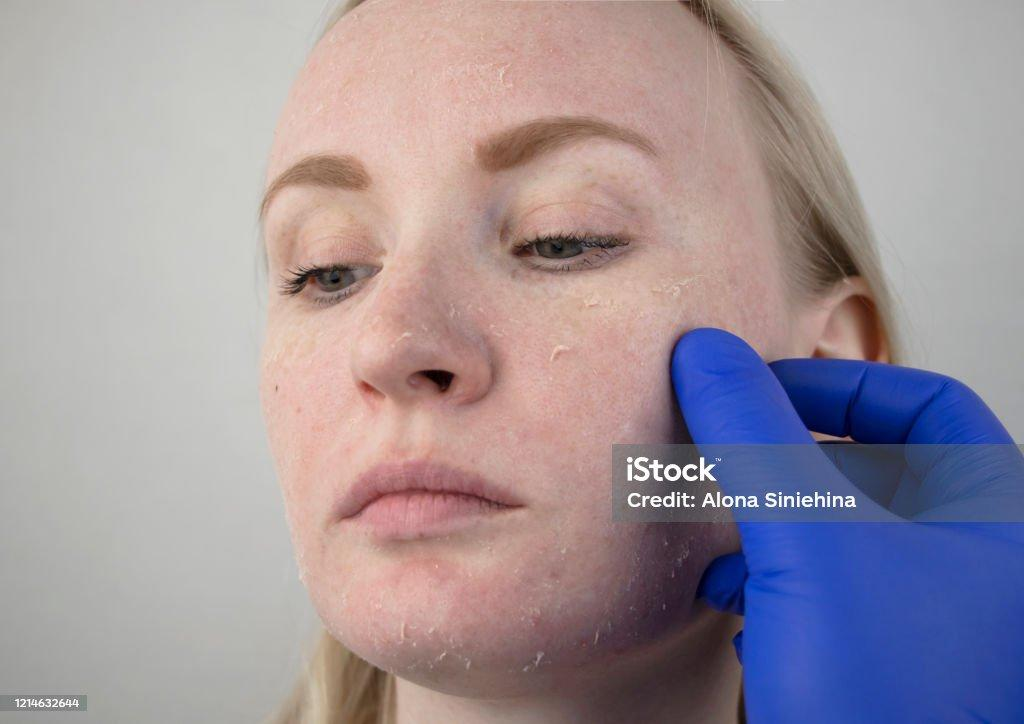Dry-Skin: (388, 278, 740, 377), (346, 563, 566, 699), (568, 523, 761, 672), (396, 8, 571, 130)
